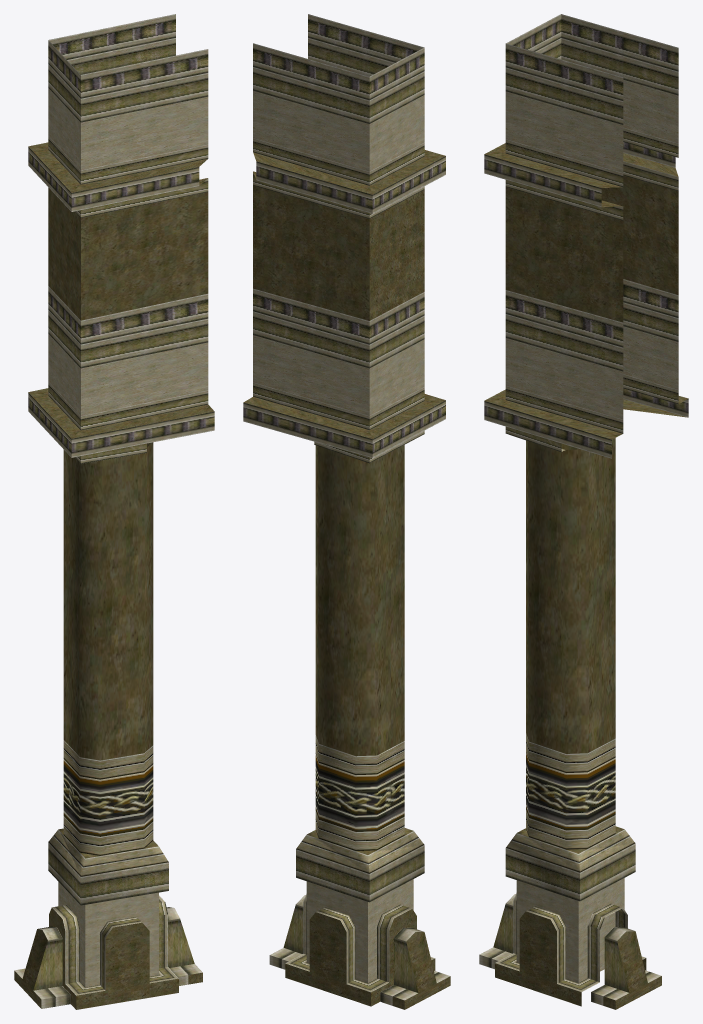
Rendered from CH09_SMAUG_PLAYSURFACE_LAIR120.fbx.
3 renders of one model, left to right at view 1: azimuth 30°, elevation 25°; view 2: azimuth 150°, elevation 25°; view 3: azimuth 330°, elevation 25°, orthographic.
Parts seen in each view (by area): view 1: CH09_SMAUG_PLAYSURFACE_LAIR120; view 2: CH09_SMAUG_PLAYSURFACE_LAIR120; view 3: CH09_SMAUG_PLAYSURFACE_LAIR120.
Part boxes in pixels (x1,y1,x2,y2): CH09_SMAUG_PLAYSURFACE_LAIR120: (14,14,214,1009); CH09_SMAUG_PLAYSURFACE_LAIR120: (243,14,450,1009); CH09_SMAUG_PLAYSURFACE_LAIR120: (479,14,688,1009).
Size of the model in its own units: 51267 by 271667 by 35128.
7 materials, 7 textured.
